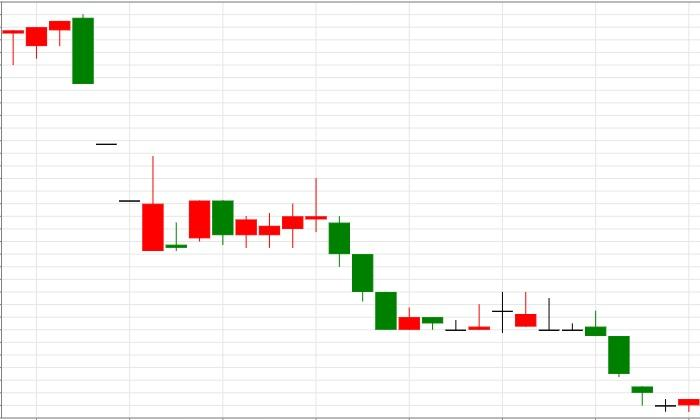bearish_engulfing_fall: (2, 14, 95, 85)
three_black_crows_fall: (259, 178, 397, 331)
